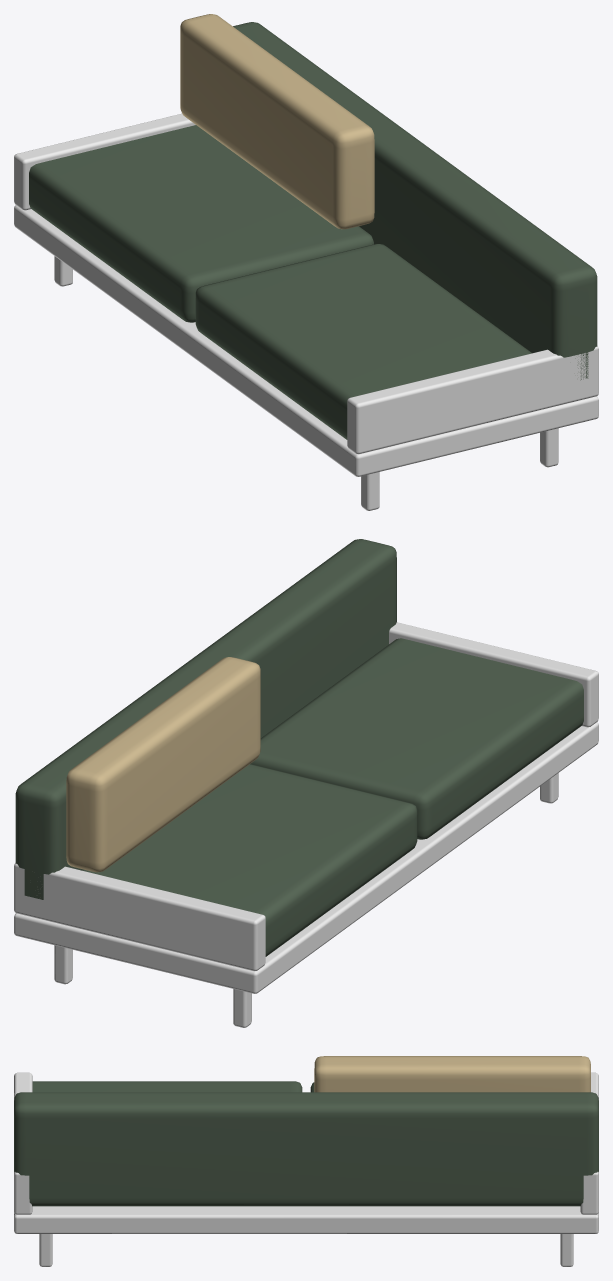
The model's file is ref_Sofa.glb.
3 renders of one model, top to bottom at view 1: azimuth 30°, elevation 25°; view 2: azimuth 150°, elevation 25°; view 3: azimuth 270°, elevation 25°, orthographic. The views are drawn at different scales.
Parts seen in each view (by area): view 1: Sofa_Assento, Sofa_Assento.001, Sofa_Encosto, Sofa_Almofada, Sofa_Base, Sofa_Braco.001, Sofa_Braco, Sofa_Pe.002, Sofa_Pe.003; view 2: Sofa_Assento.001, Sofa_Assento, Sofa_Encosto, Sofa_Almofada, Sofa_Base, Sofa_Braco, Sofa_Braco.001, Sofa_Pe, Sofa_Pe.001; view 3: Sofa_Encosto, Sofa_Base, Sofa_Almofada, Sofa_Assento.001, Sofa_Braco.001, Sofa_Braco, Sofa_Pe, Sofa_Pe.002.
Boxes of the visible parts, bbox=[...] form: Sofa_Assento: bbox=[29, 125, 373, 322]; Sofa_Assento.001: bbox=[195, 244, 531, 439]; Sofa_Encosto: bbox=[233, 22, 597, 380]; Sofa_Almofada: bbox=[180, 14, 374, 229]; Sofa_Base: bbox=[14, 205, 598, 476]; Sofa_Braco.001: bbox=[347, 346, 598, 454]; Sofa_Braco: bbox=[14, 113, 195, 210]; Sofa_Pe.002: bbox=[540, 428, 558, 467]; Sofa_Pe.003: bbox=[361, 472, 379, 510]; Sofa_Assento.001: bbox=[250, 638, 583, 839]; Sofa_Assento: bbox=[81, 764, 417, 956]; Sofa_Encosto: bbox=[15, 539, 396, 899]; Sofa_Almofada: bbox=[66, 657, 260, 872]; Sofa_Base: bbox=[14, 722, 598, 993]; Sofa_Braco: bbox=[14, 863, 265, 971]; Sofa_Braco.001: bbox=[389, 622, 598, 727]; Sofa_Pe: bbox=[54, 945, 72, 984]; Sofa_Pe.001: bbox=[233, 989, 251, 1027]; Sofa_Encosto: bbox=[14, 1092, 598, 1206]; Sofa_Base: bbox=[14, 1206, 598, 1233]; Sofa_Almofada: bbox=[314, 1056, 590, 1092]; Sofa_Assento.001: bbox=[32, 1081, 302, 1092]; Sofa_Braco.001: bbox=[14, 1072, 32, 1214]; Sofa_Braco: bbox=[580, 1072, 598, 1214]; Sofa_Pe: bbox=[560, 1234, 573, 1266]; Sofa_Pe.002: bbox=[39, 1234, 52, 1266].
Size of the model in its own units: 0.9 by 0.79 by 2.2.
